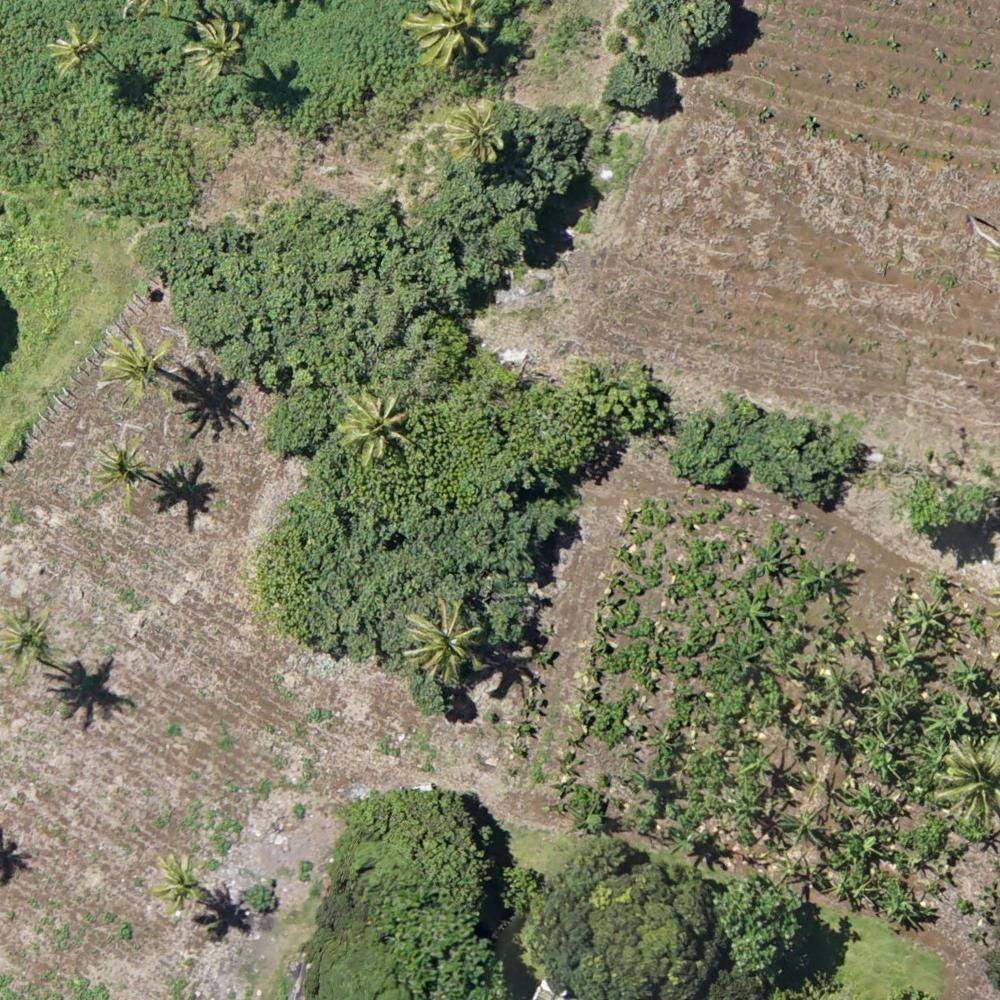Palm: (401, 1, 497, 76), (399, 601, 481, 675), (100, 328, 171, 406), (82, 436, 154, 511), (333, 394, 407, 464), (1, 611, 65, 681), (185, 18, 250, 80), (446, 97, 507, 163), (149, 851, 211, 911), (50, 25, 105, 77)
